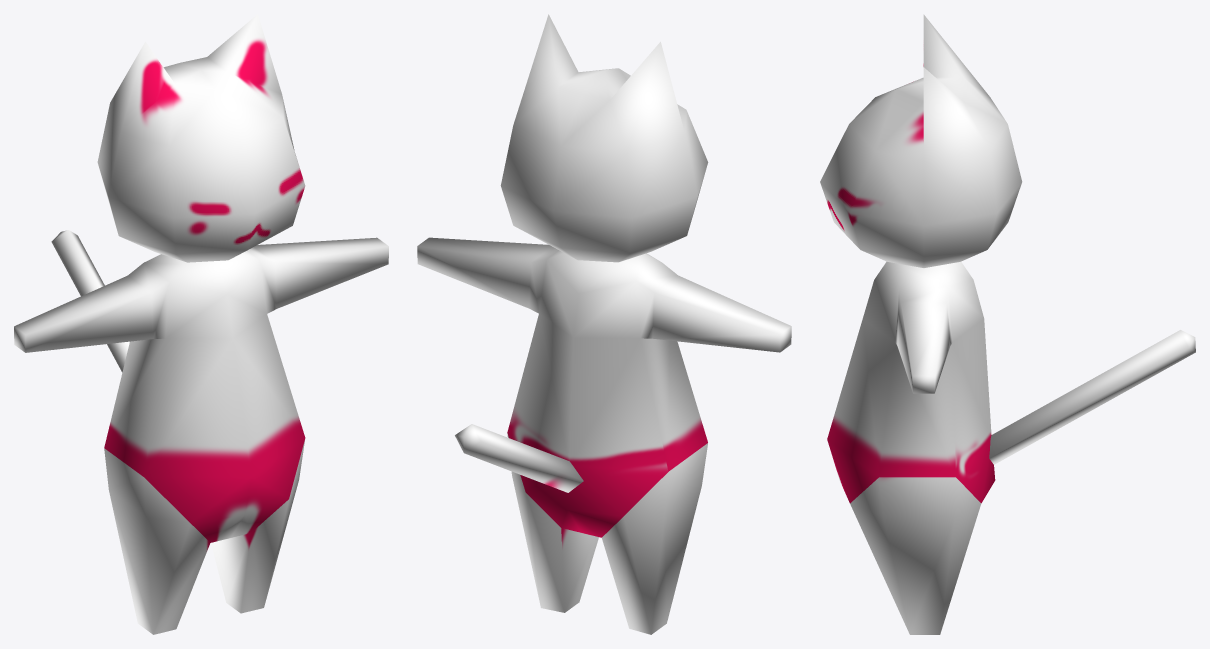
Rendered from Cat_v2.fbx.
3 views of the same model, side by side, from view 1: azimuth 30°, elevation 25°; view 2: azimuth 150°, elevation 25°; view 3: azimuth 270°, elevation 25° (orthographic). The views are drawn at different scales.
Visible parts, largest first — view 1: Body, Head, Tail; view 2: Body, Head, Tail; view 3: Body, Head, Tail.
Part boxes in pixels (x1,y1,x2,y2): Body: (14, 237, 388, 634); Head: (97, 14, 305, 262); Tail: (51, 230, 129, 372); Body: (417, 237, 791, 634); Head: (500, 14, 708, 262); Tail: (455, 424, 583, 492); Body: (827, 261, 995, 634); Head: (820, 14, 1022, 267); Tail: (989, 330, 1195, 464).
Size of the model in its own units: 38.99 by 60.37 by 36.19.
1 material, 1 textured.
